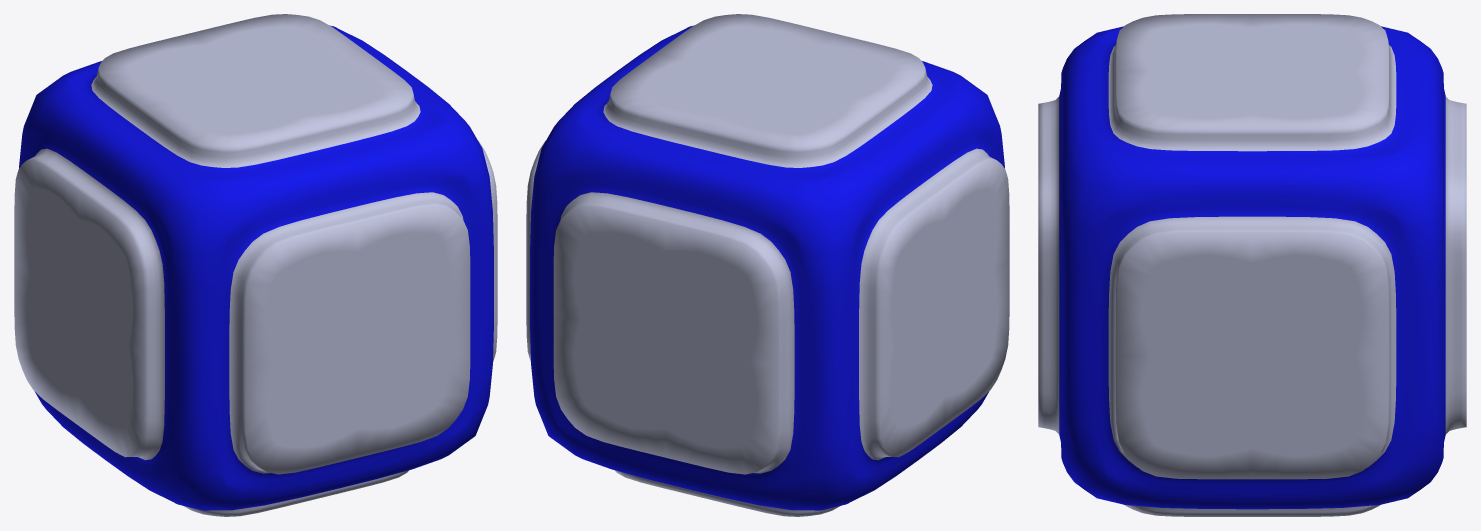
File: diemix.fbx
3 views of the same model, side by side, from view 1: azimuth 30°, elevation 25°; view 2: azimuth 150°, elevation 25°; view 3: azimuth 270°, elevation 25° (orthographic). The views are drawn at different scales.
Visible parts, largest first — view 1: Cube.001; view 2: Cube.001; view 3: Cube.001.
Part boxes in pixels (<box>): Cube.001: <box>14,14,497,516</box>; Cube.001: <box>526,14,1009,516</box>; Cube.001: <box>1038,14,1466,516</box>.
Bounding box in the file's own units: 2.24 × 2.24 × 2.24.
